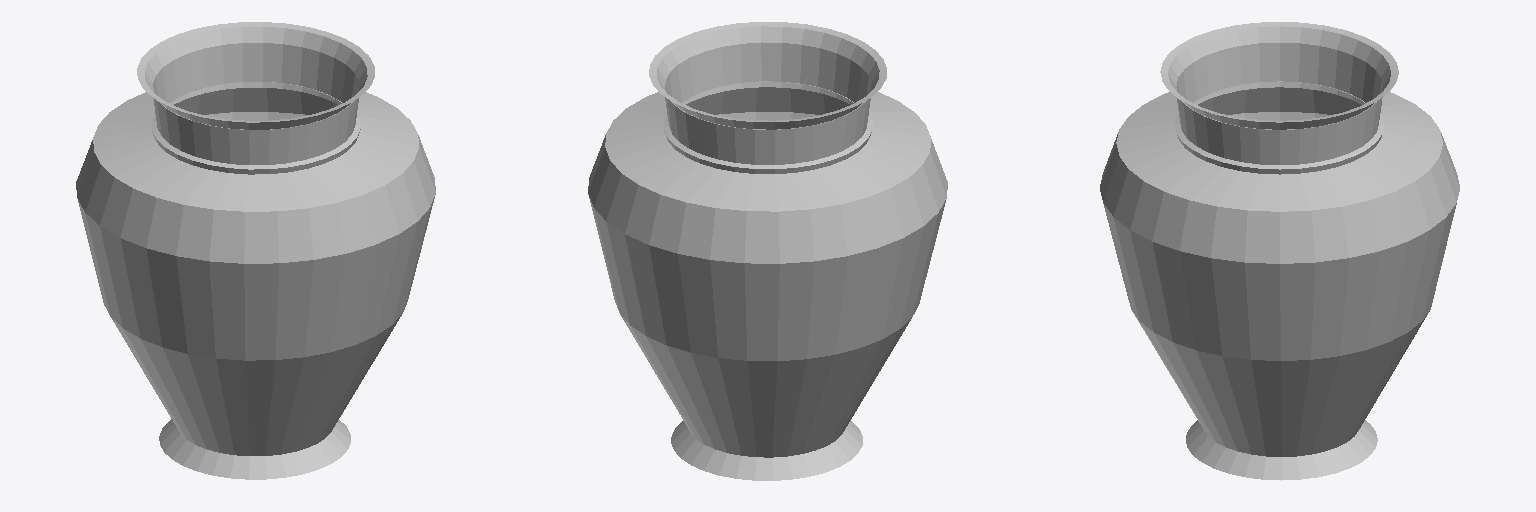
File: Vaso.obj
The picture shows the model from 3 angles: view 1: azimuth 30°, elevation 25°; view 2: azimuth 150°, elevation 25°; view 3: azimuth 270°, elevation 25°; orthographic projection.
Parts seen in each view (by area): view 1: Cylinder_Cylinder.001; view 2: Cylinder_Cylinder.001; view 3: Cylinder_Cylinder.001.
Part boxes in pixels (x1,y1,x2,y2): Cylinder_Cylinder.001: (76,22,435,479); Cylinder_Cylinder.001: (588,22,947,480); Cylinder_Cylinder.001: (1100,22,1459,480).
Size of the model in its own units: 1.15 by 1.3 by 1.15.